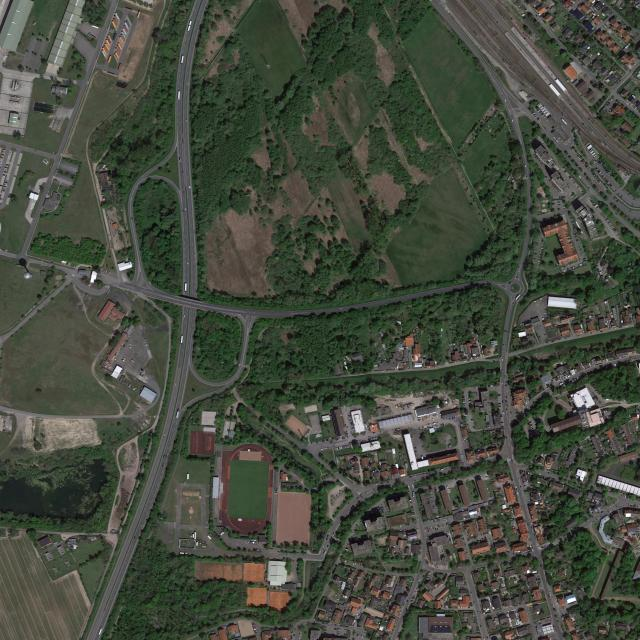large-vehicle: (187, 21, 192, 31), (98, 627, 103, 635), (176, 409, 180, 418), (515, 294, 521, 300), (181, 56, 184, 65), (178, 91, 180, 100), (181, 336, 183, 344), (185, 283, 187, 291), (503, 496, 506, 501), (179, 157, 181, 162), (489, 531, 491, 535), (193, 534, 194, 538)
small-vehicle: (399, 610, 402, 614), (376, 506, 379, 510), (610, 108, 614, 111), (385, 629, 388, 632), (466, 424, 469, 427), (516, 492, 519, 495), (520, 474, 523, 477), (5, 166, 8, 169), (114, 358, 117, 361), (123, 357, 126, 360), (129, 346, 132, 349), (162, 463, 165, 466), (347, 502, 350, 505), (532, 108, 535, 111), (533, 107, 536, 110), (534, 114, 537, 117), (610, 98, 613, 101), (533, 7, 536, 10), (535, 14, 538, 17), (540, 20, 543, 23), (621, 21, 624, 24), (624, 24, 627, 27), (629, 69, 632, 72), (615, 101, 618, 104), (597, 85, 600, 88), (626, 102, 629, 105), (598, 160, 601, 163), (601, 163, 604, 166), (595, 167, 598, 170), (596, 168, 599, 171), (597, 169, 600, 172), (598, 170, 601, 173), (599, 171, 602, 174), (556, 140, 559, 143), (571, 148, 574, 151), (571, 159, 574, 162), (514, 274, 517, 277), (504, 99, 507, 102), (624, 444, 627, 447), (565, 612, 568, 615), (632, 505, 635, 508), (602, 269, 605, 272), (562, 321, 565, 324), (538, 336, 541, 339), (529, 407, 532, 410), (528, 408, 531, 411), (525, 406, 528, 409), (512, 405, 515, 408), (597, 391, 600, 394), (575, 378, 578, 381), (549, 427, 552, 430), (531, 428, 534, 431), (604, 177, 607, 180), (597, 194, 600, 197), (588, 187, 591, 190), (564, 170, 567, 173), (569, 176, 572, 179), (572, 179, 575, 182), (573, 181, 576, 184), (620, 195, 623, 198), (594, 175, 597, 178), (605, 179, 608, 182), (609, 183, 612, 186), (590, 171, 593, 174), (591, 172, 594, 175), (592, 173, 595, 176), (595, 176, 598, 179), (597, 179, 600, 182), (598, 180, 601, 183), (599, 181, 602, 184), (589, 180, 592, 183), (604, 187, 607, 190), (608, 192, 611, 195), (605, 218, 608, 221), (403, 617, 407, 619), (443, 517, 445, 521), (324, 551, 326, 555), (320, 448, 324, 450), (5, 164, 9, 166), (189, 185, 191, 189), (123, 372, 125, 376), (345, 445, 347, 449), (624, 174, 628, 176), (471, 591, 473, 595), (551, 340, 555, 342), (407, 496, 410, 498), (406, 492, 409, 494), (443, 604, 445, 607), (427, 577, 430, 579), (428, 572, 431, 574), (418, 583, 421, 585), (417, 586, 420, 588), (414, 591, 417, 593), (413, 595, 416, 597), (412, 596, 415, 598), (411, 598, 414, 600), (410, 600, 413, 602), (408, 499, 411, 501), (410, 506, 413, 508), (411, 507, 414, 509), (462, 538, 464, 541), (446, 523, 448, 526), (449, 531, 451, 534), (447, 532, 449, 535), (437, 528, 439, 531), (435, 528, 437, 531), (431, 529, 433, 532), (434, 520, 436, 523), (428, 530, 430, 533), (426, 530, 428, 533), (396, 637, 399, 639), (356, 609, 359, 611), (359, 606, 361, 609), (391, 592, 393, 595), (354, 562, 356, 565), (332, 624, 335, 626), (353, 562, 355, 565), (347, 561, 349, 564), (344, 560, 346, 563), (345, 549, 348, 551), (347, 544, 350, 546), (332, 532, 334, 535), (356, 634, 358, 637), (254, 628, 257, 630), (254, 627, 257, 629), (253, 626, 256, 628), (253, 625, 256, 627), (364, 629, 367, 631), (364, 632, 367, 634), (337, 629, 340, 631), (334, 628, 337, 630), (469, 539, 471, 542), (468, 539, 470, 542), (470, 414, 473, 416), (487, 422, 490, 424), (473, 428, 476, 430), (467, 445, 470, 447), (461, 455, 463, 458), (509, 458, 511, 461), (463, 405, 466, 407), (550, 473, 553, 475), (498, 394, 501, 396), (468, 394, 471, 396), (462, 395, 465, 397), (462, 399, 465, 401), (463, 403, 466, 405), (511, 459, 513, 462), (547, 472, 550, 474), (466, 480, 468, 483), (520, 485, 522, 488), (516, 488, 518, 491), (506, 500, 508, 503), (471, 474, 474, 476), (467, 479, 469, 482), (467, 508, 469, 511), (512, 508, 514, 511), (463, 509, 465, 512), (507, 551, 510, 553), (506, 548, 509, 550), (483, 532, 485, 535), (511, 511, 513, 514), (526, 469, 529, 471), (523, 485, 526, 487), (524, 471, 526, 474), (519, 470, 522, 472), (519, 472, 522, 474), (520, 473, 523, 475), (523, 484, 526, 486), (527, 544, 529, 547), (529, 519, 531, 522), (531, 526, 533, 529), (540, 564, 542, 567), (530, 545, 532, 548), (322, 545, 324, 548), (398, 369, 401, 371), (254, 548, 256, 551), (253, 548, 255, 551), (245, 541, 247, 544), (4, 185, 7, 187), (5, 182, 8, 184), (2, 175, 5, 177), (3, 174, 6, 176), (343, 405, 345, 408), (348, 415, 351, 417), (317, 440, 319, 443), (329, 441, 332, 443), (326, 438, 328, 441), (325, 439, 327, 442), (324, 439, 326, 442), (324, 448, 327, 450), (316, 441, 318, 444), (351, 427, 354, 429), (351, 426, 354, 428), (350, 421, 353, 423), (346, 431, 348, 434), (183, 192, 185, 195), (187, 262, 189, 265), (187, 82, 189, 85), (8, 154, 11, 156), (108, 366, 110, 369), (9, 152, 12, 154), (34, 150, 37, 152), (131, 217, 133, 220), (109, 271, 111, 274), (107, 271, 109, 274), (104, 365, 107, 367), (144, 338, 147, 340), (129, 344, 132, 346), (134, 536, 136, 539), (335, 438, 337, 441), (356, 524, 358, 527), (433, 507, 436, 509), (429, 491, 432, 493), (439, 488, 441, 491), (456, 483, 458, 486), (452, 479, 455, 481), (430, 485, 433, 487), (375, 508, 377, 511), (378, 506, 380, 509), (422, 473, 425, 475), (399, 530, 402, 532), (327, 534, 329, 537), (328, 531, 330, 534), (331, 524, 333, 527), (392, 547, 395, 549), (414, 527, 416, 530), (405, 529, 407, 532), (411, 522, 414, 524), (406, 523, 408, 526), (405, 523, 407, 526), (390, 527, 392, 530), (383, 509, 385, 512), (419, 474, 422, 476), (342, 446, 344, 449), (362, 434, 365, 436), (339, 447, 341, 450), (363, 440, 365, 443), (346, 445, 348, 448), (348, 445, 350, 448), (348, 442, 351, 444), (342, 437, 344, 440), (339, 437, 341, 440), (338, 437, 340, 440), (362, 440, 364, 443), (365, 440, 367, 443), (356, 408, 359, 410), (409, 476, 412, 478), (339, 490, 342, 492), (353, 409, 356, 411), (365, 425, 367, 428), (375, 437, 377, 440), (372, 437, 374, 440), (505, 403, 507, 406), (501, 382, 503, 385), (610, 109, 612, 112), (608, 101, 610, 104), (606, 104, 609, 106), (537, 109, 540, 111), (538, 110, 541, 112), (539, 111, 542, 113), (540, 113, 543, 115), (532, 113, 535, 115), (533, 114, 536, 116), (535, 116, 538, 118), (537, 119, 540, 121), (609, 99, 612, 101), (524, 8, 527, 10), (617, 19, 620, 21), (619, 79, 621, 82), (616, 82, 619, 84), (588, 70, 591, 72), (581, 63, 583, 66), (571, 64, 573, 67), (586, 76, 589, 78), (535, 155, 538, 157), (593, 161, 596, 163), (594, 160, 597, 162), (599, 162, 602, 164), (600, 163, 603, 165), (602, 165, 605, 167), (603, 166, 606, 168), (604, 167, 606, 170), (592, 162, 595, 164), (553, 137, 556, 139), (575, 163, 578, 165), (574, 162, 577, 164), (576, 164, 578, 167), (584, 164, 587, 166), (577, 166, 580, 168), (578, 167, 581, 169), (578, 157, 581, 159), (579, 158, 582, 160), (580, 160, 583, 162), (581, 161, 584, 163), (583, 163, 586, 165), (524, 0, 526, 3), (604, 410, 606, 413), (477, 611, 479, 614), (508, 282, 511, 284), (512, 302, 514, 305), (506, 330, 508, 333), (473, 601, 475, 604), (529, 610, 531, 613), (514, 610, 516, 613), (480, 625, 482, 628), (279, 486, 282, 488), (467, 360, 470, 362), (480, 354, 482, 357), (478, 340, 480, 343), (605, 410, 607, 413), (593, 521, 596, 523), (601, 511, 603, 514), (609, 506, 612, 508), (576, 476, 578, 479), (638, 408, 640, 411), (610, 450, 612, 453), (606, 452, 608, 455), (623, 445, 625, 448), (622, 445, 624, 448), (621, 446, 623, 449), (609, 415, 611, 418), (608, 415, 610, 418), (607, 416, 609, 419), (605, 416, 607, 419), (607, 410, 609, 413), (609, 491, 612, 493), (626, 496, 628, 499), (561, 632, 563, 635), (562, 613, 564, 616), (573, 603, 575, 606), (552, 604, 554, 607), (544, 572, 546, 575), (630, 505, 633, 507), (550, 573, 552, 576), (638, 535, 640, 538), (563, 535, 566, 537), (600, 174, 603, 176), (601, 175, 604, 177), (602, 176, 605, 178), (630, 314, 632, 317), (569, 328, 571, 331), (577, 335, 580, 337), (603, 330, 606, 332), (613, 328, 616, 330), (561, 335, 563, 338), (634, 358, 637, 360), (629, 360, 631, 363), (628, 360, 630, 363), (625, 361, 627, 364), (624, 361, 626, 364), (613, 364, 615, 367), (570, 267, 572, 270), (567, 268, 569, 271), (565, 269, 567, 272), (597, 265, 599, 268), (555, 340, 558, 342), (553, 324, 556, 326), (554, 325, 557, 327), (544, 334, 547, 336), (546, 342, 549, 344), (615, 364, 617, 367), (606, 366, 608, 369), (529, 421, 532, 423), (529, 399, 531, 402), (503, 412, 505, 415), (514, 413, 517, 415), (516, 409, 518, 412), (511, 402, 514, 404), (505, 381, 508, 383), (493, 384, 495, 387), (529, 423, 532, 425), (601, 367, 603, 370), (567, 379, 570, 381), (578, 376, 580, 379), (577, 377, 579, 380), (572, 380, 574, 383), (571, 380, 573, 383), (569, 381, 572, 383), (530, 427, 533, 429), (534, 422, 537, 424), (534, 420, 537, 422), (530, 436, 533, 438), (529, 435, 532, 437), (527, 428, 530, 430), (571, 267, 573, 270), (574, 266, 576, 269), (562, 178, 565, 180), (562, 166, 565, 168), (565, 171, 567, 174), (616, 200, 619, 202), (577, 186, 580, 188), (571, 194, 573, 197), (562, 196, 564, 199), (552, 200, 555, 202), (606, 181, 609, 183), (607, 182, 610, 184), (593, 174, 596, 176), (628, 193, 630, 196), (596, 177, 598, 180), (597, 190, 600, 192), (559, 196, 561, 199), (578, 264, 580, 267), (615, 230, 617, 233), (574, 234, 577, 236), (575, 236, 578, 238), (579, 247, 582, 249), (581, 252, 584, 254), (541, 248, 544, 250), (583, 258, 586, 260), (579, 258, 581, 261), (563, 266, 566, 268), (581, 263, 583, 266), (579, 264, 582, 266), (608, 222, 611, 224), (552, 204, 555, 206), (589, 199, 592, 201), (557, 201, 560, 203), (563, 203, 566, 205), (559, 215, 561, 218), (560, 214, 562, 217), (590, 200, 593, 202), (615, 213, 618, 215), (591, 201, 594, 203), (592, 202, 595, 204), (570, 217, 573, 219), (571, 221, 574, 223), (572, 224, 575, 226), (573, 225, 576, 227), (573, 226, 576, 228), (597, 207, 599, 210), (327, 545, 329, 547), (408, 497, 410, 499), (406, 600, 408, 602), (398, 614, 400, 616), (461, 536, 463, 538), (461, 539, 463, 541), (427, 528, 429, 530), (426, 528, 428, 530), (438, 519, 440, 521), (299, 633, 301, 635), (322, 622, 324, 624), (314, 621, 316, 623), (358, 614, 360, 616), (350, 537, 352, 539), (326, 623, 328, 625), (335, 624, 337, 626), (294, 632, 296, 634), (361, 636, 363, 638), (500, 414, 502, 416), (501, 422, 503, 424), (473, 426, 475, 428), (465, 414, 467, 416), (469, 396, 471, 398), (489, 385, 491, 387), (469, 401, 471, 403), (479, 540, 481, 542), (515, 486, 517, 488), (494, 541, 496, 543), (525, 482, 527, 484), (523, 482, 525, 484), (527, 488, 529, 490), (530, 523, 532, 525), (527, 524, 529, 526), (326, 538, 328, 540), (387, 370, 389, 372), (3, 190, 5, 192), (4, 186, 6, 188), (6, 180, 8, 182), (4, 171, 6, 173), (323, 440, 325, 442), (350, 420, 352, 422), (311, 443, 313, 445), (351, 423, 353, 425), (163, 434, 165, 436), (163, 455, 165, 457), (141, 524, 143, 526), (165, 455, 167, 457), (330, 442, 332, 444), (333, 441, 335, 443), (436, 489, 438, 491), (352, 533, 354, 535), (360, 521, 362, 523), (431, 497, 433, 499), (446, 486, 448, 488), (455, 478, 457, 480), (445, 481, 447, 483), (434, 484, 436, 486), (415, 522, 417, 524), (381, 504, 383, 506), (396, 526, 398, 528), (354, 436, 356, 438), (346, 426, 348, 428), (336, 448, 338, 450), (343, 446, 345, 448), (346, 436, 348, 438), (343, 437, 345, 439), (357, 497, 359, 499), (387, 481, 389, 483), (381, 482, 383, 484), (375, 484, 377, 486), (369, 436, 371, 438), (373, 432, 375, 434), (502, 401, 504, 403), (532, 112, 534, 114), (540, 112, 542, 114), (542, 114, 544, 116), (536, 117, 538, 119), (537, 118, 539, 120), (539, 120, 541, 122), (544, 116, 546, 118), (526, 3, 528, 5), (589, 86, 591, 88), (546, 119, 548, 121), (534, 154, 536, 156), (605, 169, 607, 171), (606, 170, 608, 172), (592, 163, 594, 165), (607, 171, 609, 173), (609, 174, 611, 176), (610, 175, 612, 177), (586, 166, 588, 168), (567, 154, 569, 156), (572, 160, 574, 162), (576, 154, 578, 156), (577, 155, 579, 157), (574, 161, 576, 163), (579, 168, 581, 170), (578, 156, 580, 158), (518, 267, 520, 269), (500, 612, 502, 614), (505, 615, 507, 617), (512, 120, 514, 122), (607, 452, 609, 454), (596, 519, 598, 521), (603, 515, 605, 517), (609, 451, 611, 453), (624, 496, 626, 498), (571, 604, 573, 606), (562, 607, 564, 609), (548, 595, 550, 597), (636, 553, 638, 555), (632, 352, 634, 354), (626, 361, 628, 363), (558, 339, 560, 341), (569, 268, 571, 270), (563, 270, 565, 272), (597, 262, 599, 264), (598, 269, 600, 271), (520, 323, 522, 325), (572, 267, 574, 269), (525, 402, 527, 404), (530, 424, 532, 426), (510, 412, 512, 414), (505, 385, 507, 387), (574, 379, 576, 381), (565, 376, 567, 378), (564, 377, 566, 379), (579, 176, 581, 178), (545, 176, 547, 178), (566, 172, 568, 174), (569, 176, 571, 178), (582, 191, 584, 193), (610, 185, 612, 187), (587, 177, 589, 179), (611, 225, 613, 227), (613, 228, 615, 230), (614, 229, 616, 231), (576, 239, 578, 241), (577, 240, 579, 242), (605, 217, 607, 219), (564, 205, 566, 207), (553, 217, 555, 219), (596, 206, 598, 208), (418, 582, 421, 583), (431, 526, 432, 529), (465, 552, 468, 553), (445, 517, 446, 520), (437, 519, 438, 522), (299, 636, 300, 639), (359, 563, 360, 566), (314, 617, 315, 620), (345, 606, 346, 609), (346, 548, 349, 549), (294, 634, 295, 637), (344, 634, 347, 635), (337, 634, 340, 635), (337, 631, 340, 632), (326, 635, 329, 636), (487, 424, 490, 425), (470, 416, 473, 417), (471, 421, 474, 422), (500, 416, 503, 417), (487, 427, 490, 428), (466, 440, 469, 441), (463, 462, 464, 465), (479, 477, 482, 478), (506, 437, 507, 440), (498, 396, 501, 397), (498, 403, 501, 404), (498, 406, 501, 407), (461, 393, 464, 394), (462, 397, 465, 398), (463, 402, 466, 403), (466, 509, 467, 512), (465, 509, 466, 512), (462, 509, 463, 512), (524, 489, 527, 490), (509, 561, 512, 562), (495, 564, 498, 565), (331, 536, 332, 539), (381, 371, 384, 372), (339, 308, 342, 309), (260, 549, 261, 552), (258, 549, 259, 552), (3, 189, 6, 190), (322, 440, 323, 443), (327, 447, 330, 448), (319, 440, 320, 443), (345, 424, 346, 427), (184, 315, 185, 318), (194, 254, 195, 257), (183, 210, 184, 213), (185, 208, 186, 211), (175, 383, 176, 386), (182, 171, 183, 174), (180, 128, 181, 131), (186, 119, 187, 122), (433, 509, 436, 510), (443, 487, 444, 490), (414, 481, 417, 482), (408, 529, 409, 532), (404, 529, 405, 532), (386, 510, 389, 511), (361, 441, 362, 444), (356, 436, 359, 437), (338, 447, 339, 450), (341, 446, 342, 449), (416, 475, 419, 476), (413, 476, 416, 477), (384, 482, 387, 483), (368, 426, 369, 429), (369, 428, 370, 431), (374, 437, 375, 440), (492, 384, 493, 387), (637, 56, 638, 59), (638, 57, 639, 60), (624, 399, 625, 402), (505, 330, 506, 333), (503, 344, 504, 347), (478, 603, 479, 606), (480, 611, 481, 614), (497, 613, 500, 614), (487, 636, 488, 639), (464, 361, 467, 362), (471, 356, 472, 359), (470, 353, 471, 356), (473, 359, 476, 360), (495, 349, 498, 350), (550, 637, 551, 640), (550, 593, 551, 596), (555, 572, 556, 575), (566, 534, 569, 535), (600, 331, 603, 332), (618, 320, 619, 323), (625, 326, 628, 327), (611, 365, 612, 368), (634, 351, 635, 354), (629, 357, 632, 358), (597, 268, 598, 271), (544, 313, 547, 314), (524, 404, 525, 407), (523, 405, 524, 408), (502, 369, 503, 372), (530, 426, 533, 427), (537, 419, 540, 420), (527, 176, 528, 179), (561, 196, 562, 199), (525, 165, 526, 168), (552, 203, 555, 204), (580, 249, 583, 250), (538, 261, 541, 262), (552, 208, 555, 209), (558, 204, 561, 205), (563, 207, 566, 208), (441, 605, 442, 607), (428, 576, 430, 577), (430, 530, 431, 532), (360, 564, 361, 566), (255, 631, 257, 632), (340, 625, 342, 626), (338, 635, 340, 636), (324, 630, 326, 631), (346, 626, 348, 627), (343, 626, 345, 627), (468, 538, 470, 539), (471, 419, 473, 420), (464, 407, 466, 408), (491, 385, 492, 387), (488, 385, 489, 387), (476, 387, 477, 389), (469, 398, 471, 399), (469, 400, 471, 401), (469, 399, 471, 400), (462, 392, 464, 393), (518, 478, 519, 480), (485, 477, 487, 478), (527, 482, 528, 484), (402, 369, 404, 370), (256, 549, 257, 551), (248, 541, 249, 543), (349, 418, 351, 419), (351, 425, 353, 426), (5, 170, 7, 171), (118, 257, 120, 258), (106, 271, 107, 273), (433, 506, 435, 507), (432, 502, 434, 503), (393, 546, 395, 547), (408, 523, 409, 525), (400, 525, 401, 527), (426, 473, 428, 474), (337, 438, 338, 440), (377, 438, 378, 440), (378, 435, 380, 436), (512, 605, 513, 607), (507, 612, 508, 614), (517, 616, 518, 618), (488, 352, 490, 353), (497, 635, 498, 637), (546, 581, 547, 583), (549, 591, 550, 593), (638, 532, 640, 533), (638, 530, 640, 531), (608, 326, 609, 328), (620, 327, 622, 328), (565, 338, 567, 339), (502, 359, 503, 361), (493, 361, 495, 362), (603, 399, 605, 400), (552, 197, 553, 199), (581, 250, 583, 251), (582, 254, 584, 255)
